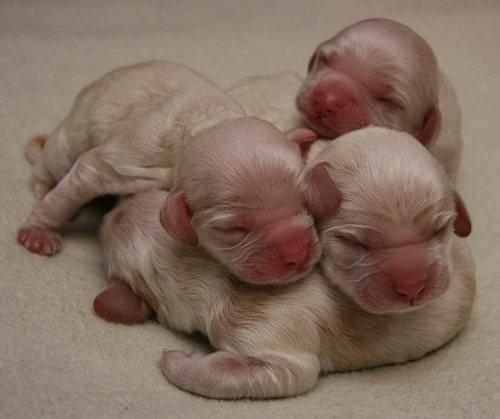puppy-dog: (158, 123, 480, 402), (19, 60, 318, 341), (227, 16, 466, 192)
